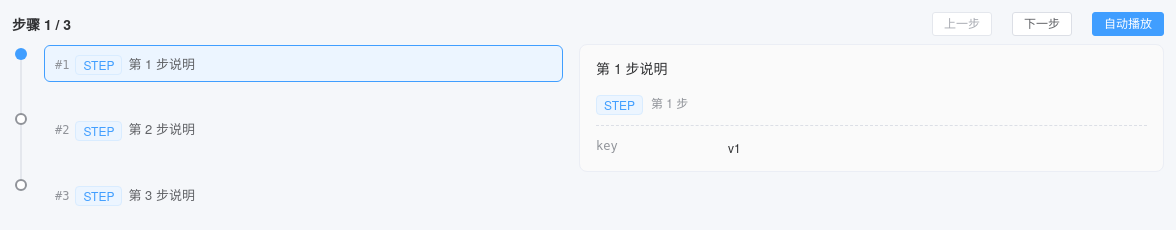
Test: StepTimeline › 边界：第一步上一步禁用、最后一步下一步禁用
Expected: the button with test id "step-prev" is disabled, [932,12,992,36]
What coordinates should you click on to do the following:
click the button with test id "step-next"
I would click on:
 (1042, 24)
Its box is [1012,12,1072,36].
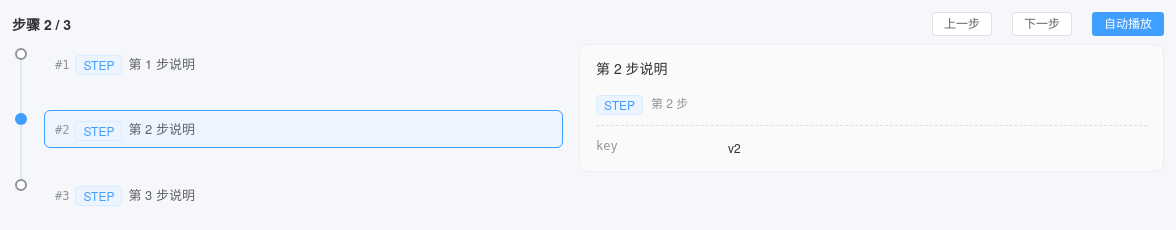
What coordinates should you click on to do the following:
click the button with test id "step-next"
I would click on:
 (1042, 24)
Its box is [1012,12,1072,36].
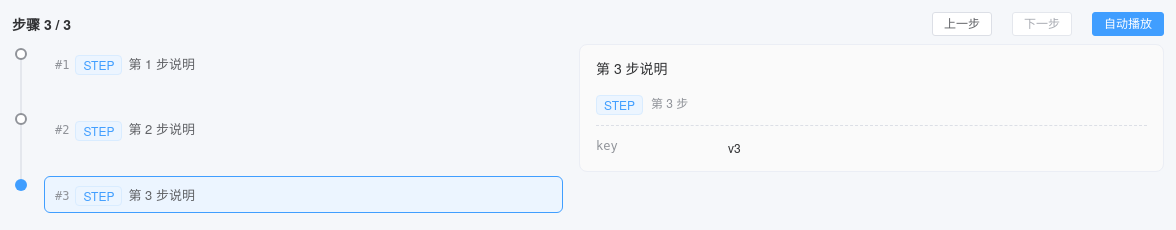
Expected: the text with test id "step-indicator" reads "步骤 3 / 3", [12,14,71,34]
Expected: the button with test id "step-next" is disabled, [1012,12,1072,36]
